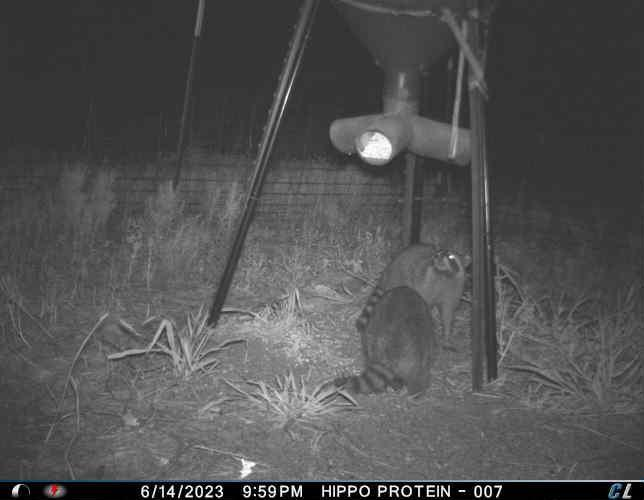Raccoon: (332, 281, 438, 398), (353, 242, 473, 335)
